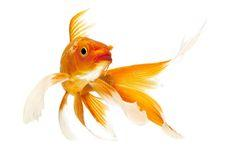goldfish: (51, 32, 150, 115)
